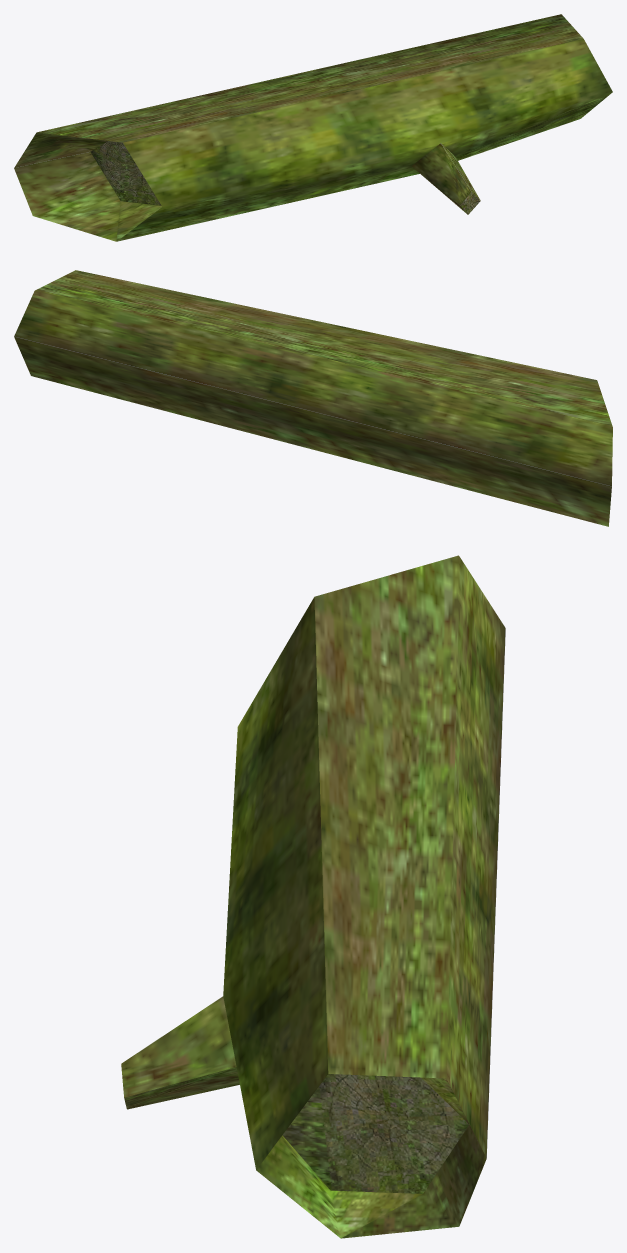
The model's file is ever_endr_mossylog_l2.fbx.
3 views of the same model, one above another, from view 1: azimuth 30°, elevation 25°; view 2: azimuth 150°, elevation 25°; view 3: azimuth 270°, elevation 25° (orthographic). The views are drawn at different scales.
Visible parts, largest first — view 1: mesh_node; view 2: mesh_node; view 3: mesh_node.
Part boxes in pixels (x1,y1,x2,y2): mesh_node: (14, 14, 612, 241); mesh_node: (14, 270, 612, 526); mesh_node: (121, 555, 505, 1238).
Bounding box in the file's own units: 6.13 × 1.2 × 1.88.
Materials: 1 (1 with a texture image).
